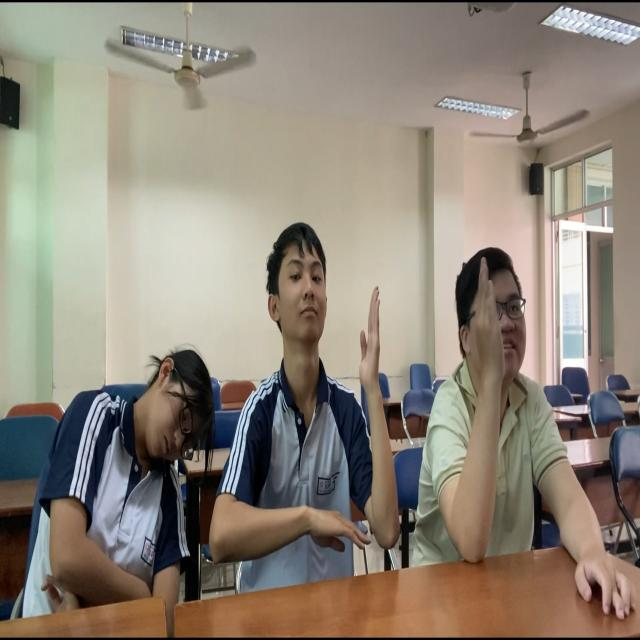raise_hand: (229, 227, 400, 582), (414, 238, 570, 555)
